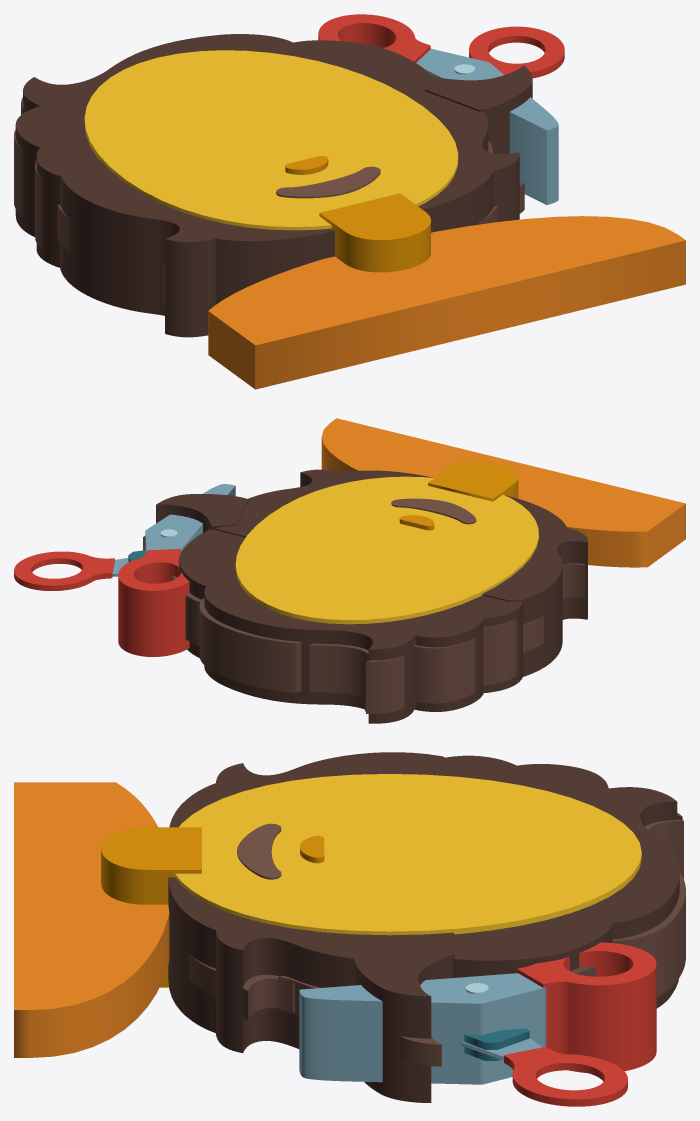
Rendered from emoji_u1f487.glb.
3 views of the same model, one above another, from view 1: azimuth 30°, elevation 25°; view 2: azimuth 150°, elevation 25°; view 3: azimuth 270°, elevation 25° (orthographic). The views are drawn at different scales.
Visible parts, largest first — view 1: emoji_u1f487; view 2: emoji_u1f487; view 3: emoji_u1f487.
Part boxes in pixels (x1=…): emoji_u1f487: x1=14, y1=14, x2=685, y2=389; emoji_u1f487: x1=14, y1=418, x2=685, y2=723; emoji_u1f487: x1=14, y1=752, x2=685, y2=1106.
Bounding box in the file's own units: 0.0349 × 0.0066 × 0.0331.
